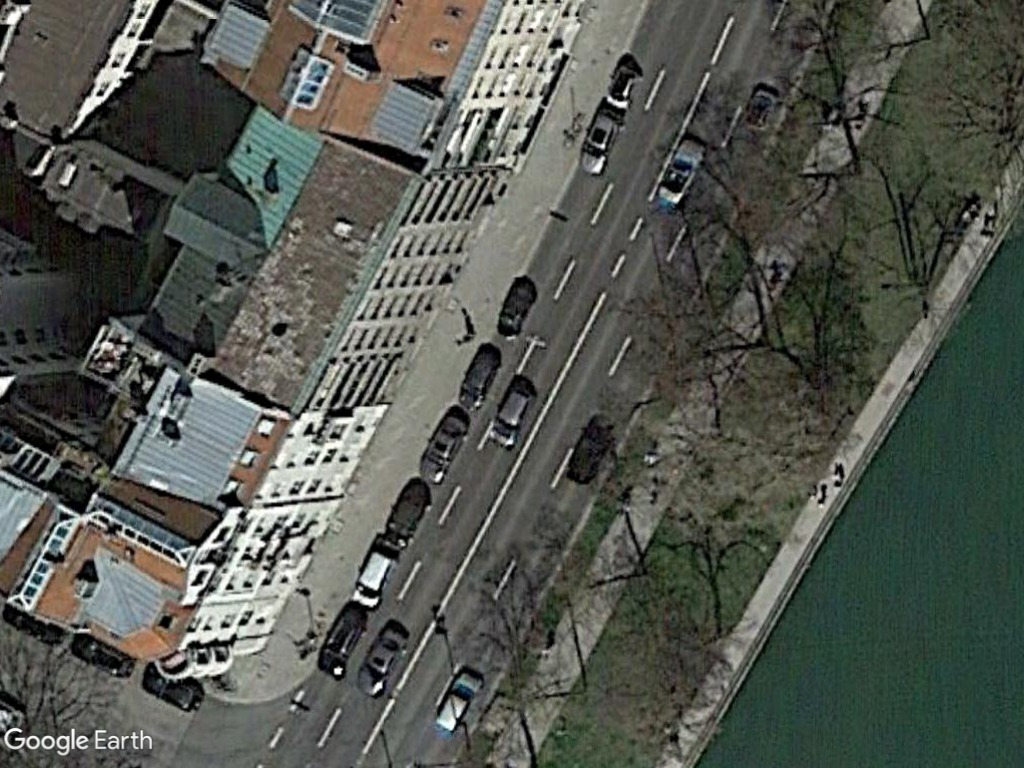car: (650, 134, 710, 210), (414, 410, 470, 488), (428, 663, 487, 735), (355, 627, 409, 700), (349, 538, 403, 609), (571, 109, 625, 179), (485, 382, 538, 451)
